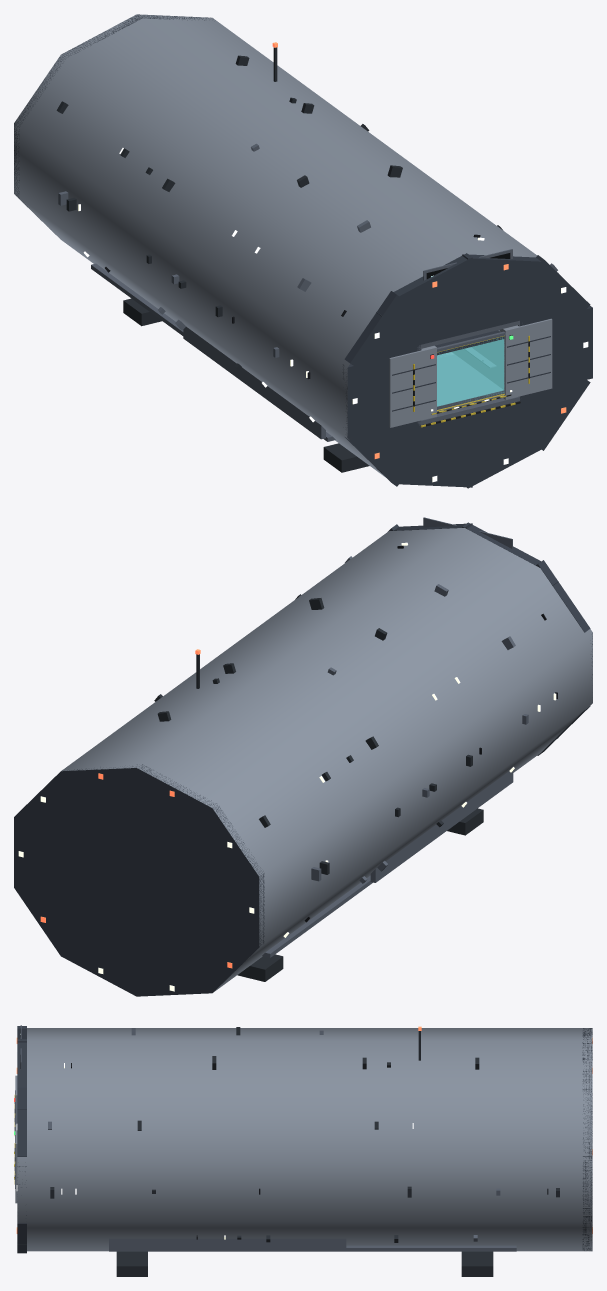
3 renders of one model, top to bottom at view 1: azimuth 30°, elevation 25°; view 2: azimuth 150°, elevation 25°; view 3: azimuth 270°, elevation 25°, orthographic. The views are drawn at different scales.
Visible parts, largest first — view 1: shellOuter, endPlate0, endPlate8, endPlate6, endPlate4, berthLForceField, endPlate3, endPlate5, berthLBlastHouseR, berthLBlastHouseL, endPlate7, endPlate1 (+11 smaller); view 2: shellOuter, endCapAft, screenWallL, transferDeck, groundSaddleA, endPlate8; view 3: shellOuter, screenWallR, transferDeck, endCapAft, groundSaddleA, groundSaddleF, endPlate1, endPlate0.
Boxes of the visible parts, left/top/right/bottom form: shellOuter: left=14, top=14, right=537, bottom=477; endPlate0: left=455, top=254, right=543, bottom=312; endPlate8: left=344, top=291, right=436, bottom=384; endPlate6: left=345, top=397, right=436, bottom=486; endPlate4: left=455, top=405, right=543, bottom=488; berthLForceField: left=437, top=337, right=504, bottom=406; endPlate3: left=504, top=358, right=590, bottom=450; endPlate5: left=397, top=433, right=481, bottom=487; berthLBlastHouseR: left=500, top=318, right=552, bottom=399; berthLBlastHouseL: left=389, top=345, right=436, bottom=427; endPlate7: left=342, top=354, right=402, bottom=437; endPlate1: left=505, top=255, right=590, bottom=347; shellOuter: left=61, top=528, right=592, bottom=992; endCapAft: left=14, top=764, right=264, bottom=996; screenWallL: left=370, top=770, right=513, bottom=882; transferDeck: left=262, top=875, right=372, bottom=957; groundSaddleA: left=237, top=954, right=283, bottom=981; endPlate8: left=536, top=560, right=590, bottom=632; shellOuter: left=17, top=1028, right=592, bottom=1251; screenWallR: left=109, top=1238, right=346, bottom=1250; transferDeck: left=109, top=1245, right=516, bottom=1251; endCapAft: left=582, top=1028, right=592, bottom=1251; groundSaddleA: left=461, top=1251, right=493, bottom=1276; groundSaddleF: left=116, top=1251, right=147, bottom=1276; endPlate1: left=17, top=1087, right=26, bottom=1156; endPlate0: left=17, top=1039, right=26, bottom=1087.
Size of the model in its own units: 26.35 by 26.47 by 58.82.
